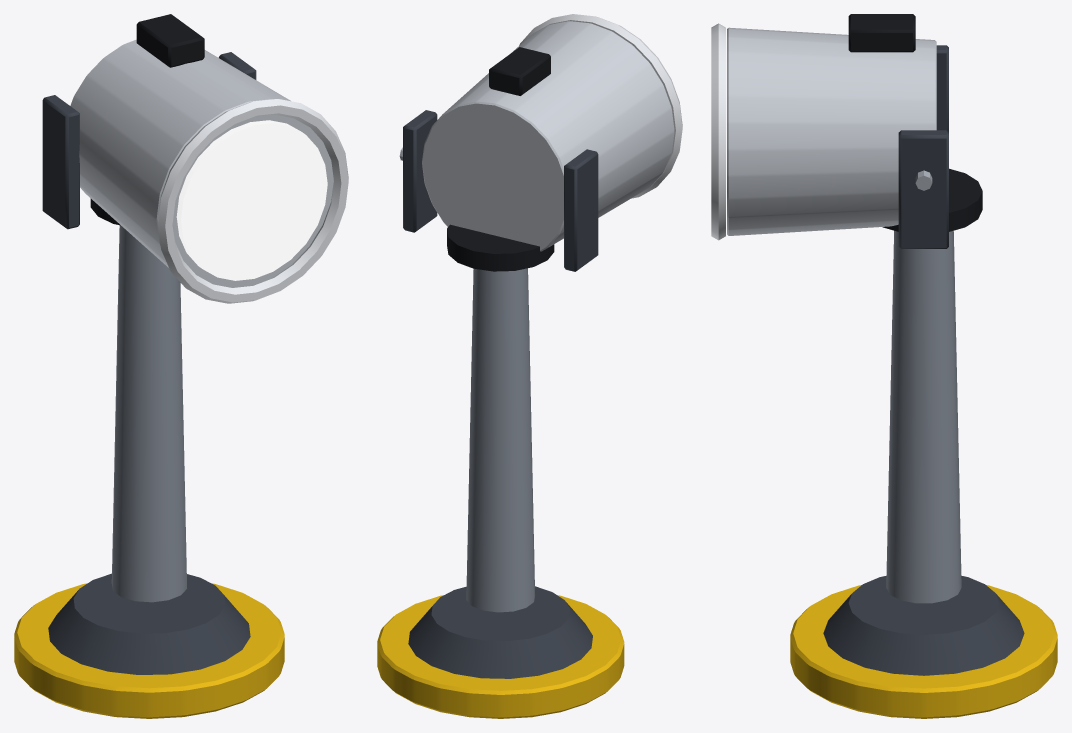
File: spotlight_search_light_pedestal.glb
The picture shows the model from 3 angles, left to right: view 1: azimuth 30°, elevation 25°; view 2: azimuth 150°, elevation 25°; view 3: azimuth 270°, elevation 25°; orthographic projection. The views are drawn at different scales.
Visible parts, largest first — view 1: spotlight_search_light_pedestal; view 2: spotlight_search_light_pedestal; view 3: spotlight_search_light_pedestal.
Boxes of the visible parts, x1,y1,x2,y2 form: spotlight_search_light_pedestal: (14,14,348,718); spotlight_search_light_pedestal: (377,14,682,718); spotlight_search_light_pedestal: (711,14,1057,718).
Size of the model in its own units: 0.6379 by 1.69 by 0.8263.
